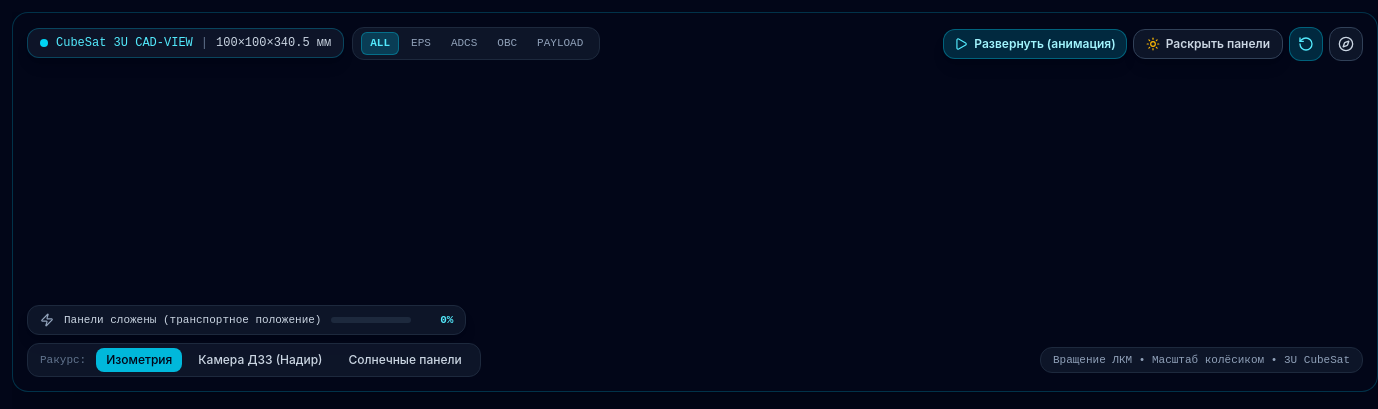
Test case: CubeSatCoreViewer: анимация развертывания солнечных панелей (Three.js) › позволяет повторно запустить анимацию развертывания кнопкой HUD
Click the button "Развернуть (анимация)": coordinates (1035, 44) [943,29,1127,59]
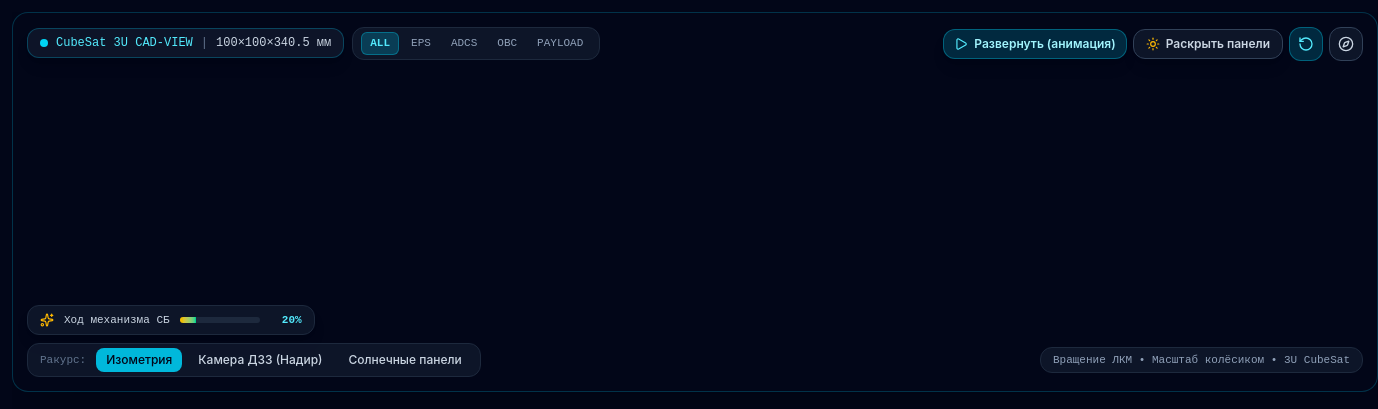
Expected: the text "Ход механизма СБ" is shown, [64,312,170,328]
